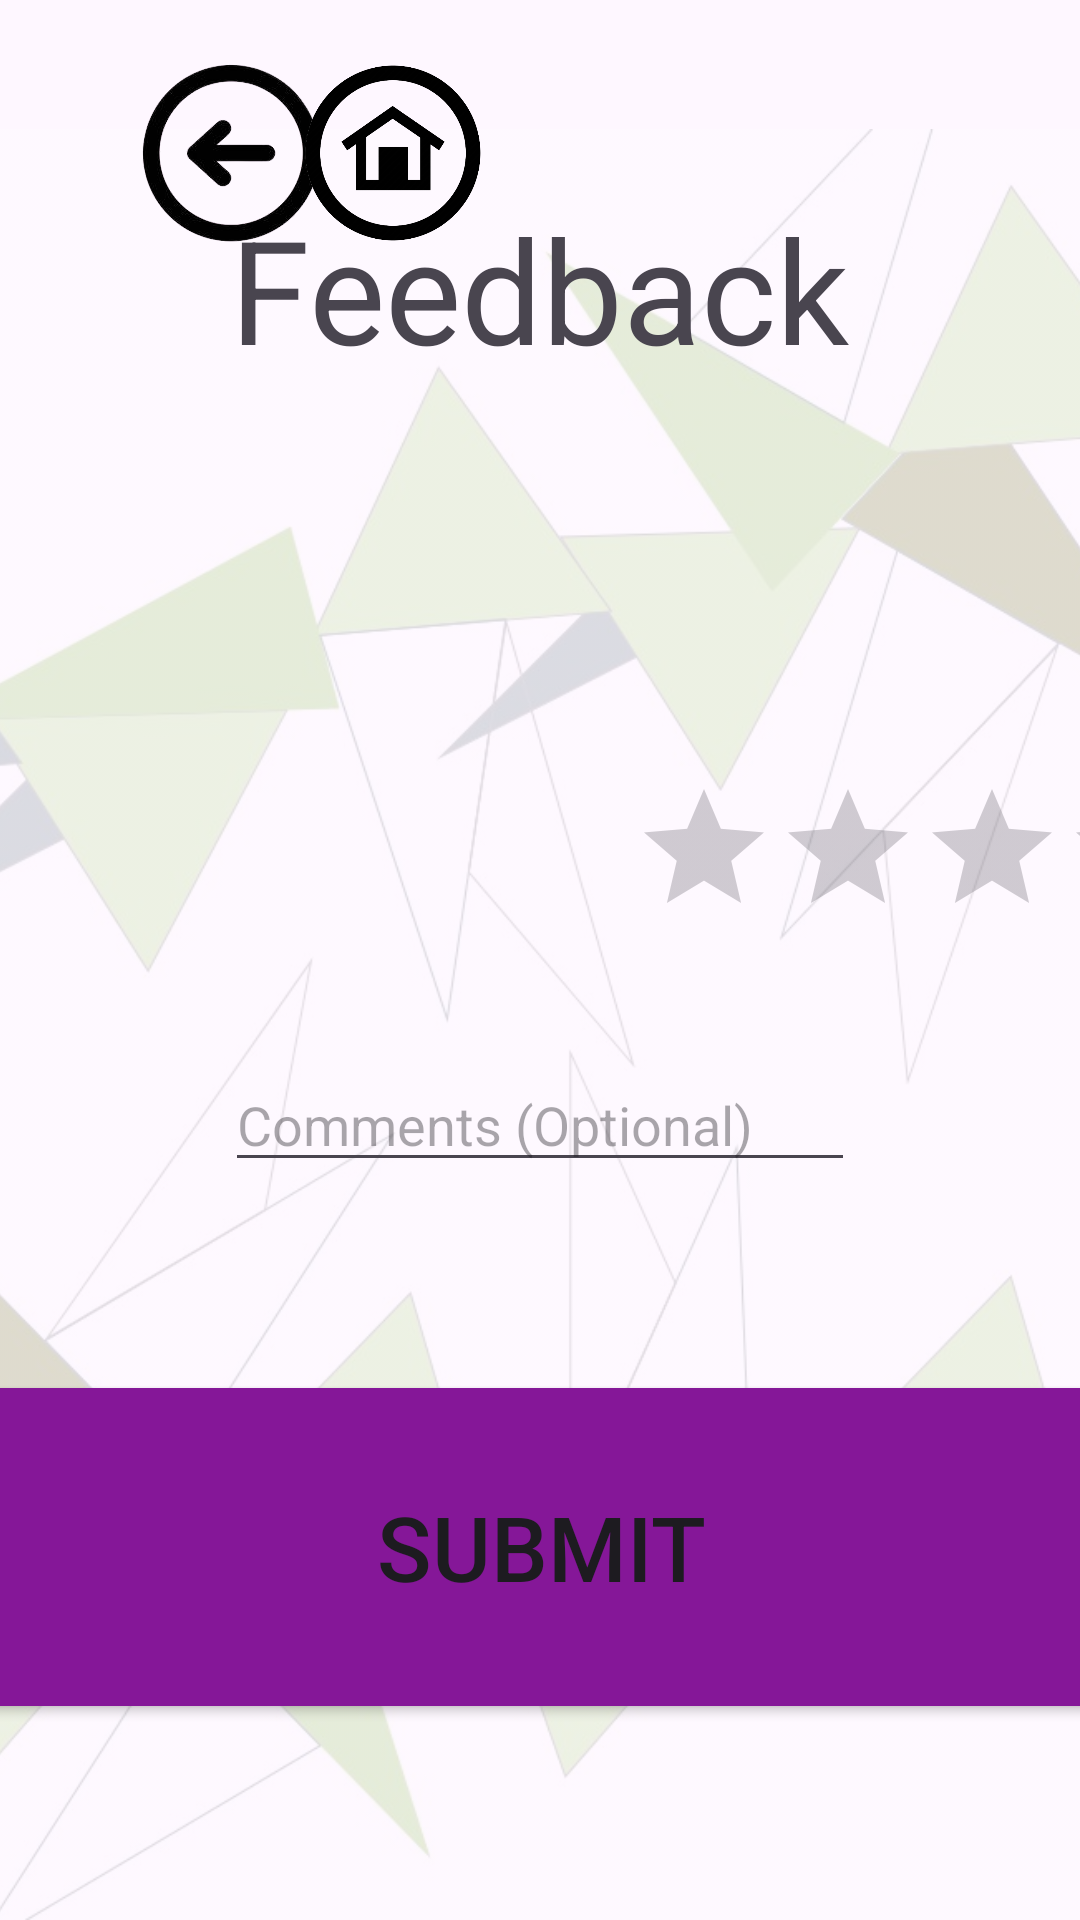

Named icons in this screenshot (1080×1920) and their centers, (x=x, y=y):
Home Button: (x=375, y=154)
